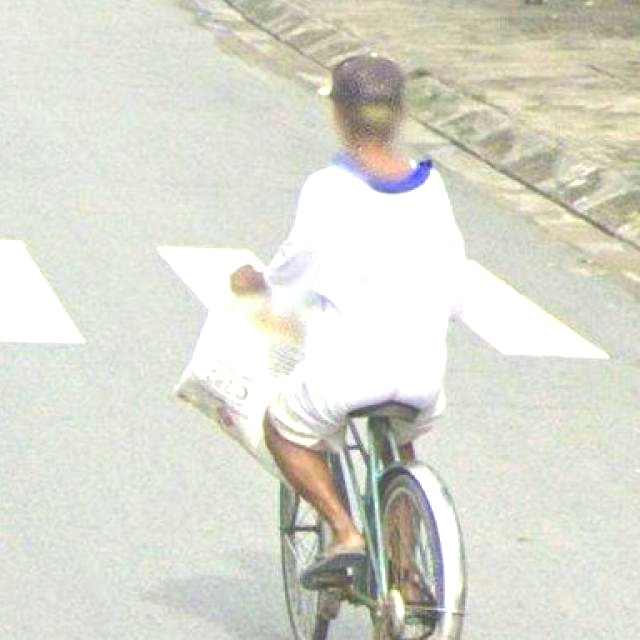bicycle: (156, 247, 507, 636)
